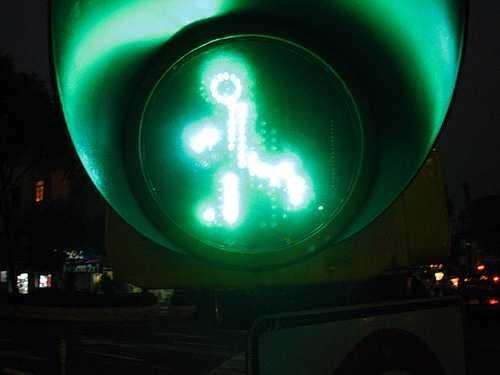green: (144, 39, 368, 257)
